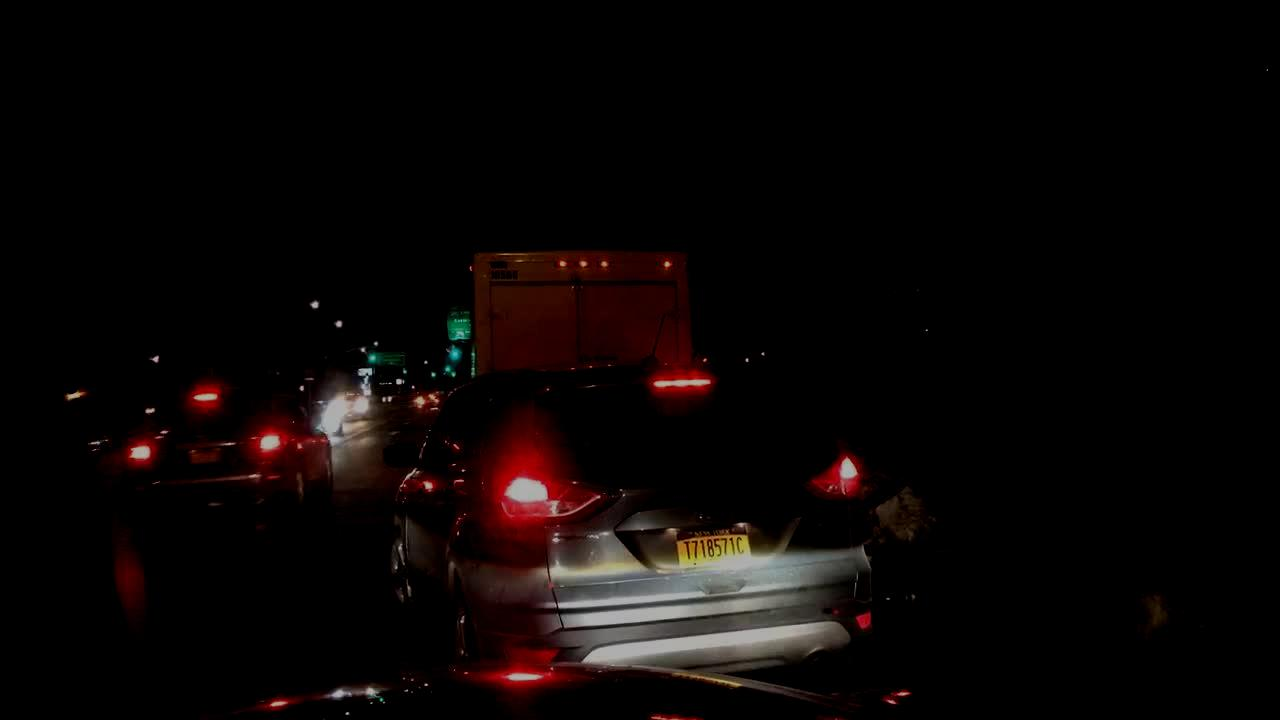ford: (698, 507, 733, 523)
